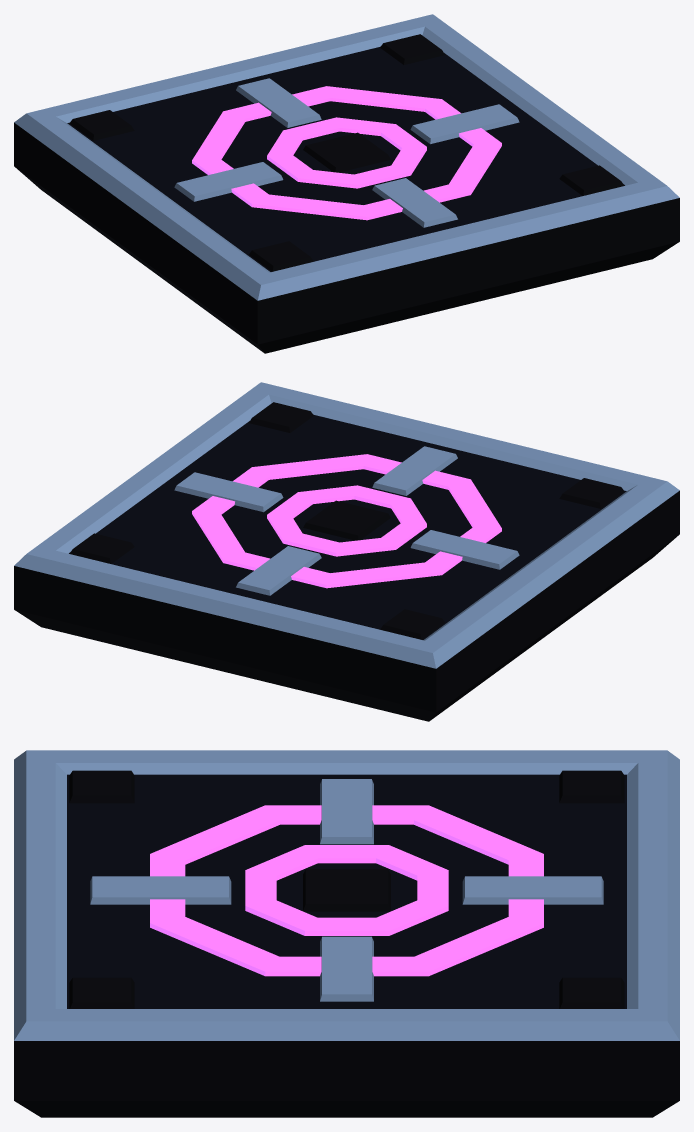
Rendered from SM_ArenaTile_04_MagneticStorm.glb.
3 views of the same model, one above another, from view 1: azimuth 30°, elevation 25°; view 2: azimuth 150°, elevation 25°; view 3: azimuth 270°, elevation 25° (orthographic). The views are drawn at different scales.
Parts seen in each view (by area): view 1: Part_MAT_AltNeutral, Part_MAT_DarkNeutral, Part_MAT_LightTrim, Part_EMI_Magnetic; view 2: Part_MAT_AltNeutral, Part_MAT_DarkNeutral, Part_MAT_LightTrim, Part_EMI_Magnetic; view 3: Part_MAT_AltNeutral, Part_MAT_LightTrim, Part_MAT_DarkNeutral, Part_EMI_Magnetic.
Boxes of the visible parts, x1=… form: Part_MAT_AltNeutral: x1=67, y1=46, x2=624, y2=271; Part_MAT_DarkNeutral: x1=14, y1=34, x2=679, y2=353; Part_MAT_LightTrim: x1=14, y1=14, x2=679, y2=300; Part_EMI_Magnetic: x1=192, y1=86, x2=501, y2=220; Part_MAT_AltNeutral: x1=69, y1=414, x2=626, y2=639; Part_MAT_DarkNeutral: x1=14, y1=402, x2=679, y2=721; Part_MAT_LightTrim: x1=14, y1=382, x2=679, y2=668; Part_EMI_Magnetic: x1=192, y1=454, x2=501, y2=588; Part_MAT_AltNeutral: x1=67, y1=774, x2=626, y2=1008; Part_MAT_LightTrim: x1=14, y1=750, x2=679, y2=1040; Part_MAT_DarkNeutral: x1=14, y1=770, x2=679, y2=1117; Part_EMI_Magnetic: x1=150, y1=805, x2=543, y2=976.
Size of the model in its own units: 11.8 by 2 by 11.8.
Materials: 4 (4 with a texture image).
